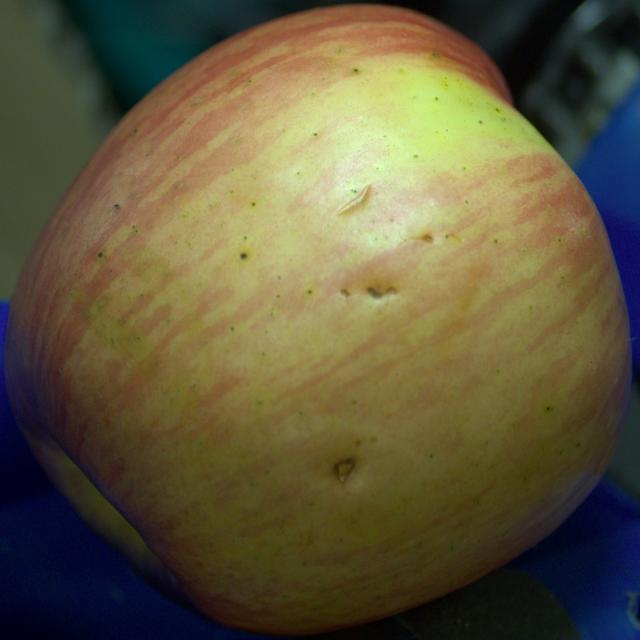apple: (5, 5, 631, 634)
pest: (334, 458, 354, 483), (367, 286, 396, 299), (413, 233, 433, 242)
scratch: (336, 185, 371, 215)
